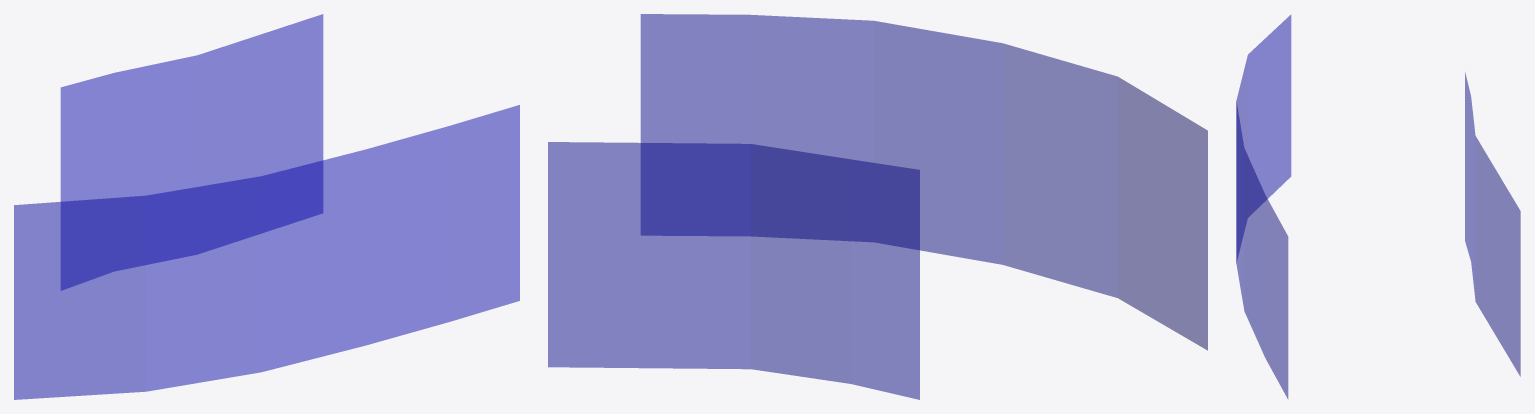
Rendered from track_military_coll_wall_30.fbx.
The picture shows the model from 3 angles, left to right: view 1: azimuth 30°, elevation 25°; view 2: azimuth 150°, elevation 25°; view 3: azimuth 270°, elevation 25°; orthographic projection. The views are drawn at different scales.
Visible parts, largest first — view 1: track_military_coll_wall_30; view 2: track_military_coll_wall_30; view 3: track_military_coll_wall_30.
Part boxes in pixels (x1=…): track_military_coll_wall_30: x1=14, y1=14, x2=519, y2=399; track_military_coll_wall_30: x1=548, y1=14, x2=1207, y2=399; track_military_coll_wall_30: x1=1236, y1=15, x2=1520, y2=398.
Size of the model in its own units: 87.56 by 36.95 by 51.3.
